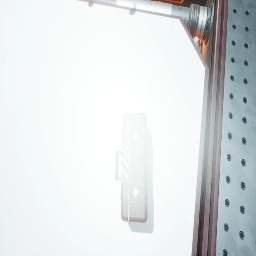FirstAidBox ,: (115, 113, 148, 223)
